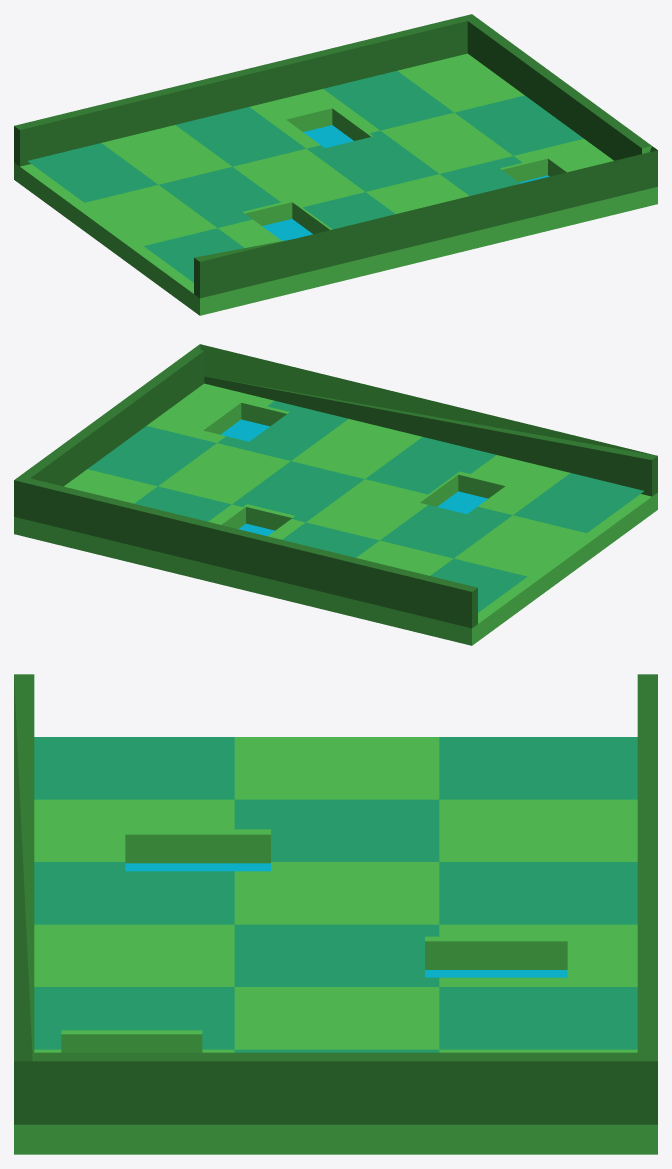
Rendered from floor2.fbx.
3 renders of one model, top to bottom at view 1: azimuth 30°, elevation 25°; view 2: azimuth 150°, elevation 25°; view 3: azimuth 270°, elevation 25°, orthographic. The views are drawn at different scales.
Parts seen in each view (by area): view 1: pCube15; view 2: pCube15; view 3: pCube15.
Part boxes in pixels (x1,y1,x2,y2): pCube15: [14, 14, 657, 315]; pCube15: [14, 344, 657, 645]; pCube15: [14, 674, 657, 1154].
Bounding box in the file's own units: 22.4 × 2.52 × 15.75.
